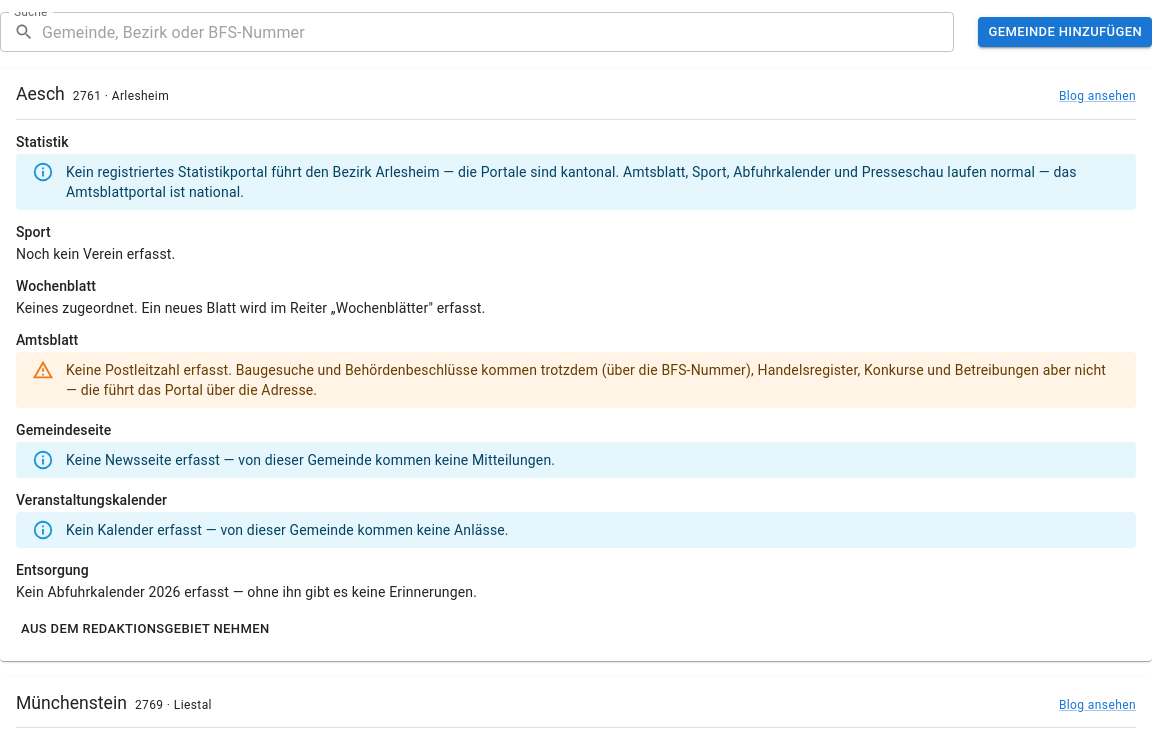
it: GemeindenAuswahl › filtert ueber die Suche, auch ohne Umlaut
In the field labelled "Suche": (498, 32) [42,12,954,52], type "munchenstein"
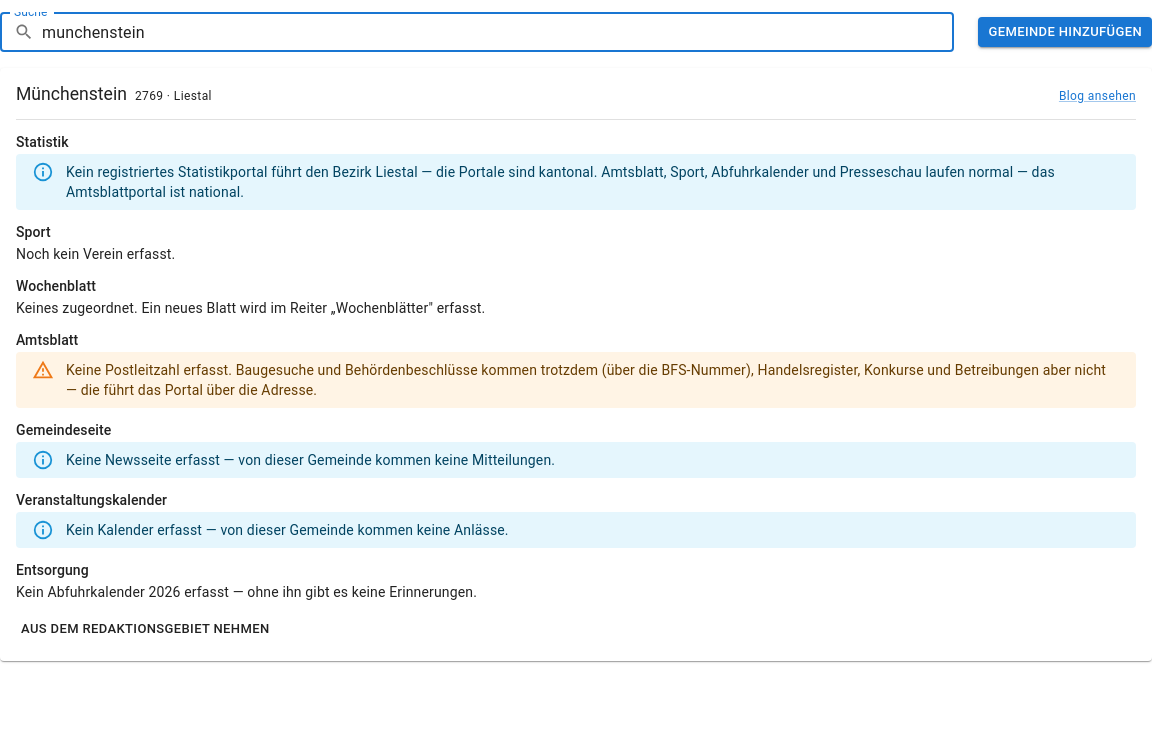
Expected: the heading "Münchenstein" is shown, [16,84,127,104]
Result: the heading "Aesch" is gone
